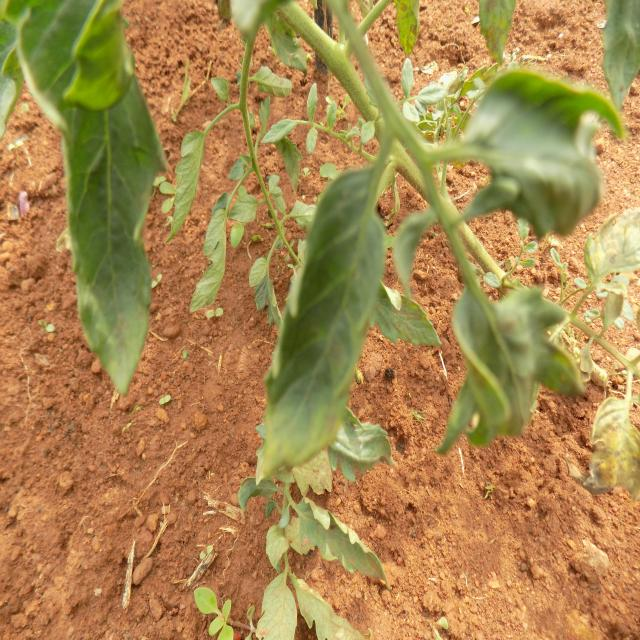tomato_healthy: (252, 159, 384, 474), (65, 0, 157, 397)
